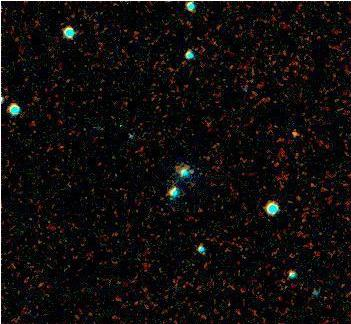star: (279, 117, 309, 147)
